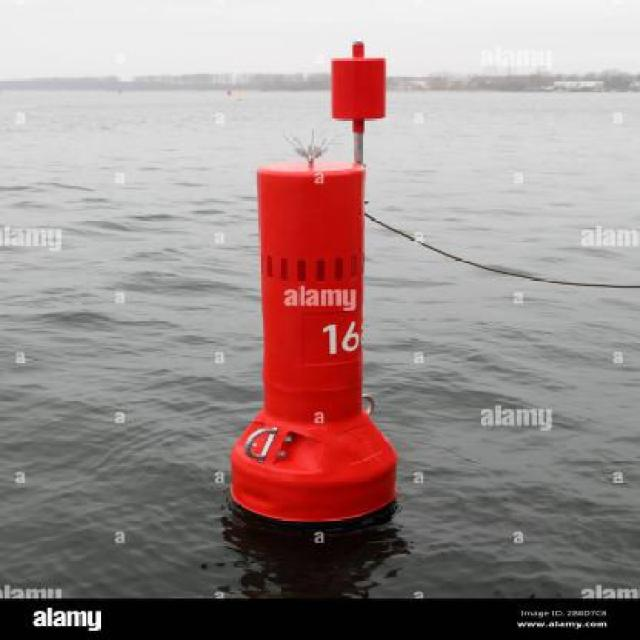a: (206, 33, 444, 531)
